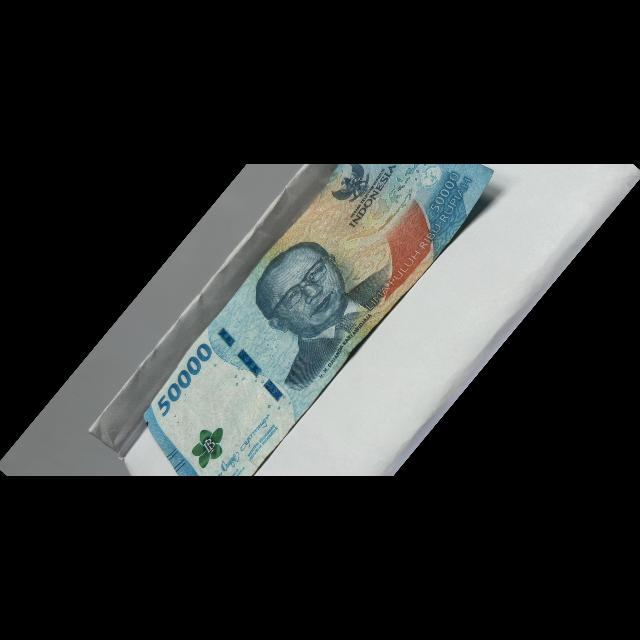Palsu-50k: (115, 80, 509, 477)
Tinta-Palsu-50k: (181, 418, 237, 473)
